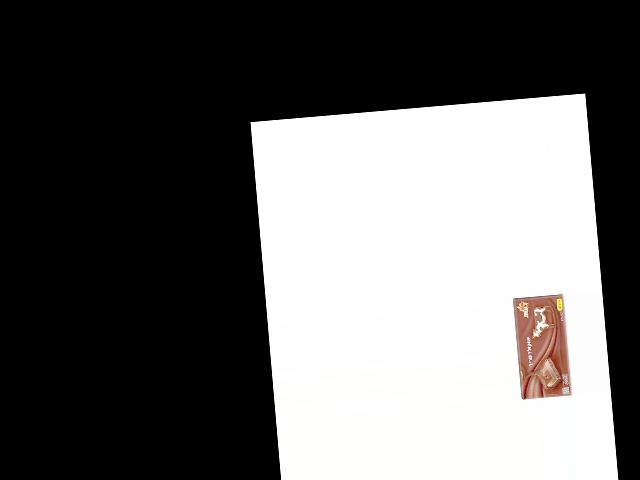chocolate: (512, 291, 572, 398)
